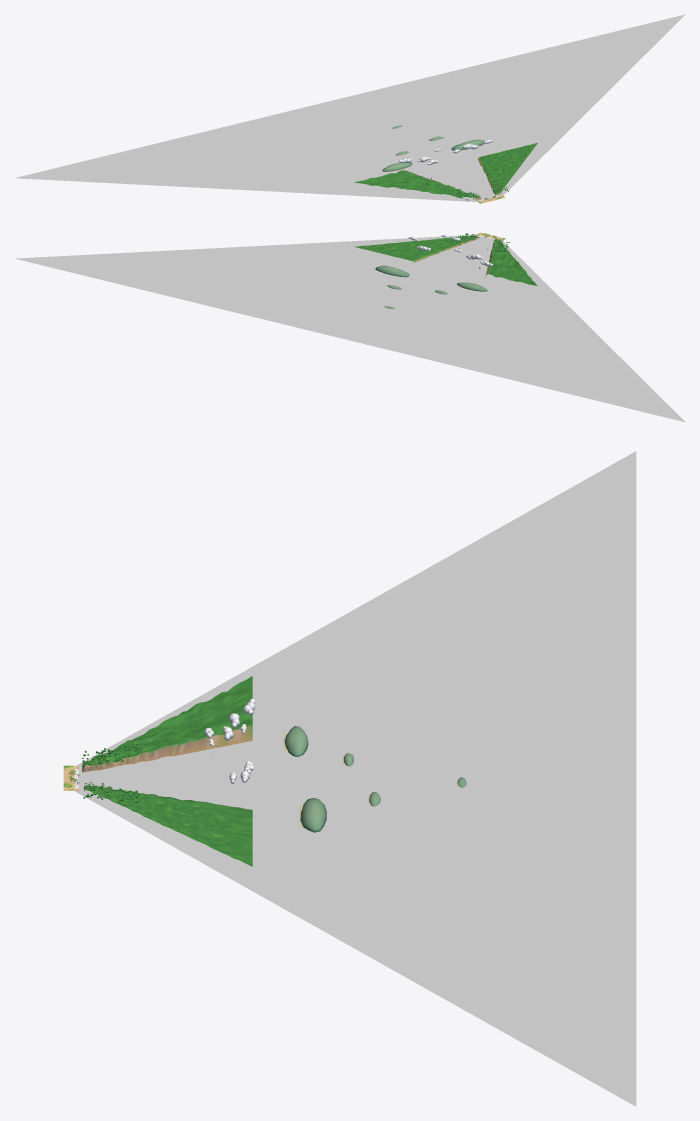
Rendered from beach_scene.glb.
3 views of the same model, one above another, from view 1: azimuth 30°, elevation 25°; view 2: azimuth 150°, elevation 25°; view 3: azimuth 270°, elevation 25° (orthographic). The views are drawn at different scales.
Visible parts, largest first — view 1: far_sea, far_land, far_islands; view 2: far_sea, far_land, far_islands; view 3: far_sea, far_land, far_islands.
Part boxes in pixels (x1=…): far_sea: x1=14, y1=14, x2=685, y2=201; far_land: x1=354, y1=143, x2=537, y2=197; far_islands: x1=382, y1=125, x2=484, y2=172; far_sea: x1=15, y1=234, x2=685, y2=422; far_land: x1=354, y1=236, x2=537, y2=285; far_islands: x1=375, y1=265, x2=487, y2=309; far_sea: x1=75, y1=451, x2=636, y2=1106; far_land: x1=84, y1=676, x2=252, y2=866; far_islands: x1=283, y1=726, x2=466, y2=832.
Bounding box in the file's own units: 3562 × 130 × 1314.
